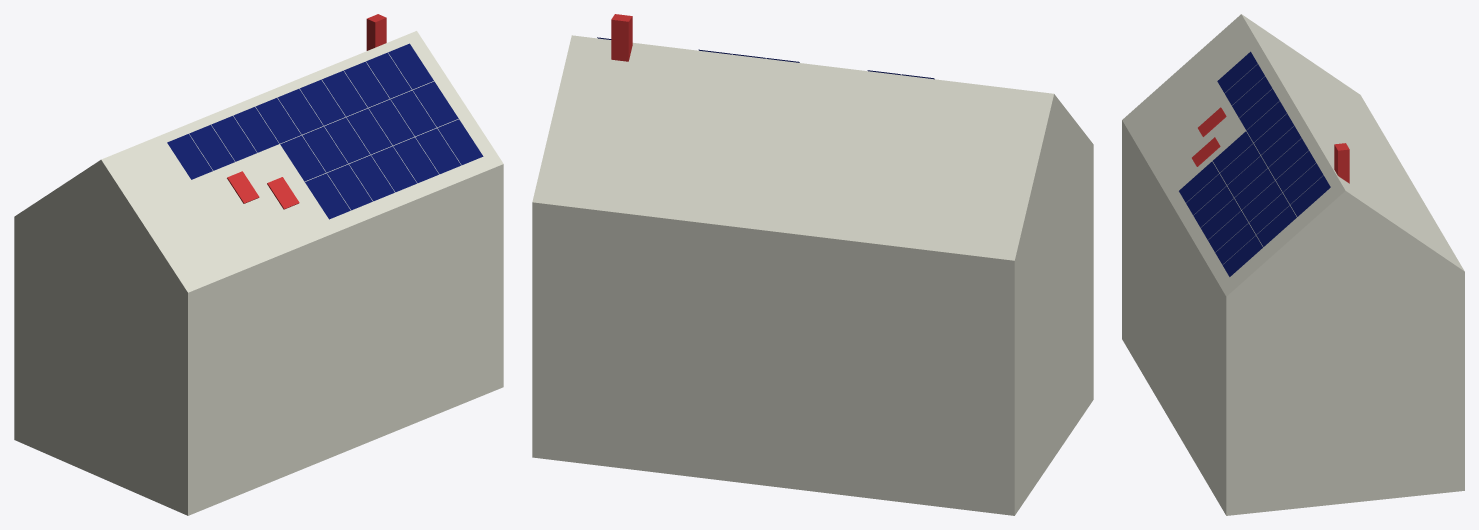
3 renders of one model, left to right at view 1: azimuth 30°, elevation 25°; view 2: azimuth 150°, elevation 25°; view 3: azimuth 270°, elevation 25°, orthographic. The views are drawn at different scales.
Parts seen in each view (by area): view 1: House, PV_25_P_01, PV_25_P_03, PV_25_P_05, PV_25_P_08, PV_25_P_11, PV_25_P_14, PV_25_P_19, PV_25_P_24, PV_25_P_02, PV_25_P_04, PV_25_P_06 (+17 smaller); view 2: House, Chimney; view 3: House, PV_25_P_24, PV_25_P_01, PV_25_P_06, PV_25_P_10, PV_25_P_14, PV_25_P_15, PV_25_P_16, PV_25_P_17, PV_25_P_19, PV_25_P_23, PV_25_P_02 (+15 smaller).
Part boxes in pixels (box(x1,y1,x2,y2)): House: box(14, 31, 503, 515); PV_25_P_01: box(388, 43, 433, 89); PV_25_P_03: box(437, 119, 483, 164); PV_25_P_05: box(390, 90, 436, 136); PV_25_P_08: box(368, 99, 414, 145); PV_25_P_11: box(346, 108, 392, 154); PV_25_P_14: box(324, 117, 370, 163); PV_25_P_19: box(255, 98, 301, 143); PV_25_P_24: box(189, 124, 234, 170); PV_25_P_02: box(413, 81, 458, 127); PV_25_P_04: box(366, 52, 411, 98); PV_25_P_06: box(415, 128, 461, 173); House: box(532, 35, 1093, 515); Chimney: box(611, 14, 632, 61); House: box(1122, 14, 1464, 515); PV_25_P_24: box(1224, 64, 1264, 105); PV_25_P_01: box(1290, 175, 1330, 216); PV_25_P_06: box(1215, 223, 1255, 264); PV_25_P_10: box(1268, 138, 1308, 179); PV_25_P_14: box(1227, 156, 1267, 197); PV_25_P_15: box(1193, 186, 1233, 227); PV_25_P_16: box(1254, 113, 1294, 154); PV_25_P_17: box(1220, 143, 1260, 184); PV_25_P_19: box(1246, 101, 1286, 142); PV_25_P_23: box(1232, 76, 1272, 117); PV_25_P_02: box(1256, 205, 1296, 246).
Size of the model in its own units: 18.26 by 13.11 by 14.19.
